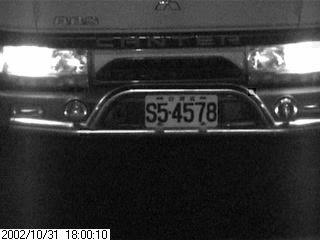plate: (142, 91, 220, 130)
